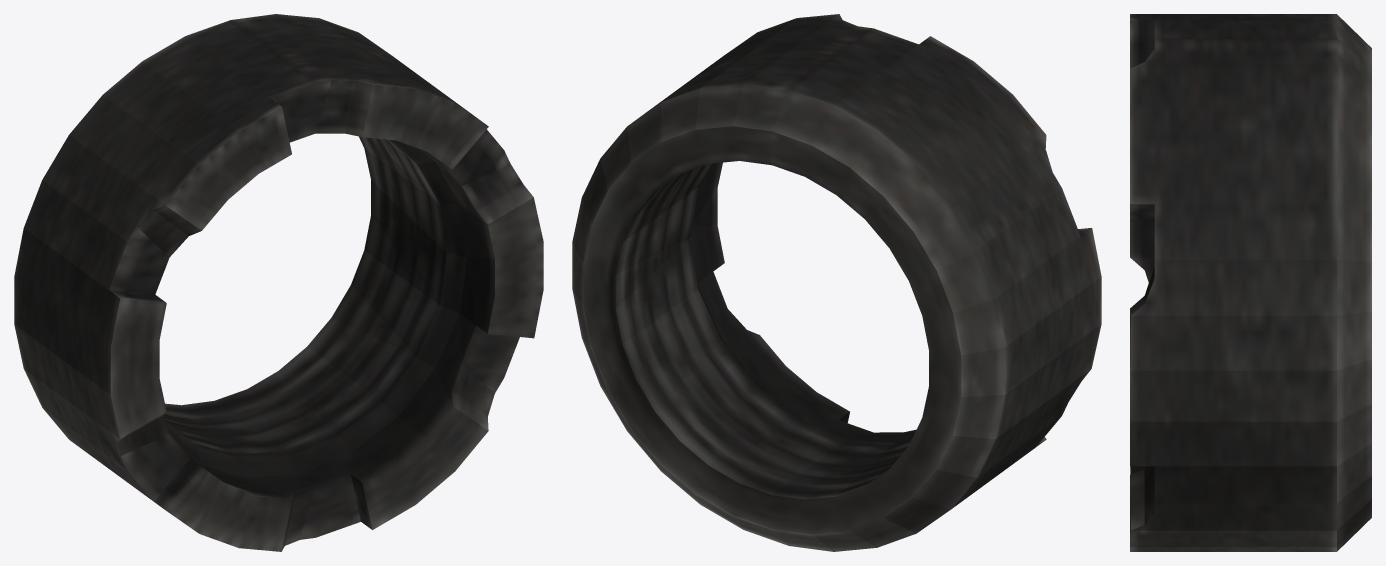
3 renders of one model, left to right at view 1: azimuth 30°, elevation 25°; view 2: azimuth 150°, elevation 25°; view 3: azimuth 270°, elevation 25°, orthographic. The views are drawn at different scales.
Parts seen in each view (by area): view 1: TW_6513f0f5e63f29908d0ffab8_PZ_Import; view 2: TW_6513f0f5e63f29908d0ffab8_PZ_Import; view 3: TW_6513f0f5e63f29908d0ffab8_PZ_Import.
Part boxes in pixels (x1,y1,x2,y2): TW_6513f0f5e63f29908d0ffab8_PZ_Import: [14, 14, 543, 551]; TW_6513f0f5e63f29908d0ffab8_PZ_Import: [572, 14, 1101, 551]; TW_6513f0f5e63f29908d0ffab8_PZ_Import: [1130, 14, 1371, 551].
Bounding box in the file's own units: 0.0127 × 0.00572 × 0.0127.
Materials: 1 (1 with a texture image).
